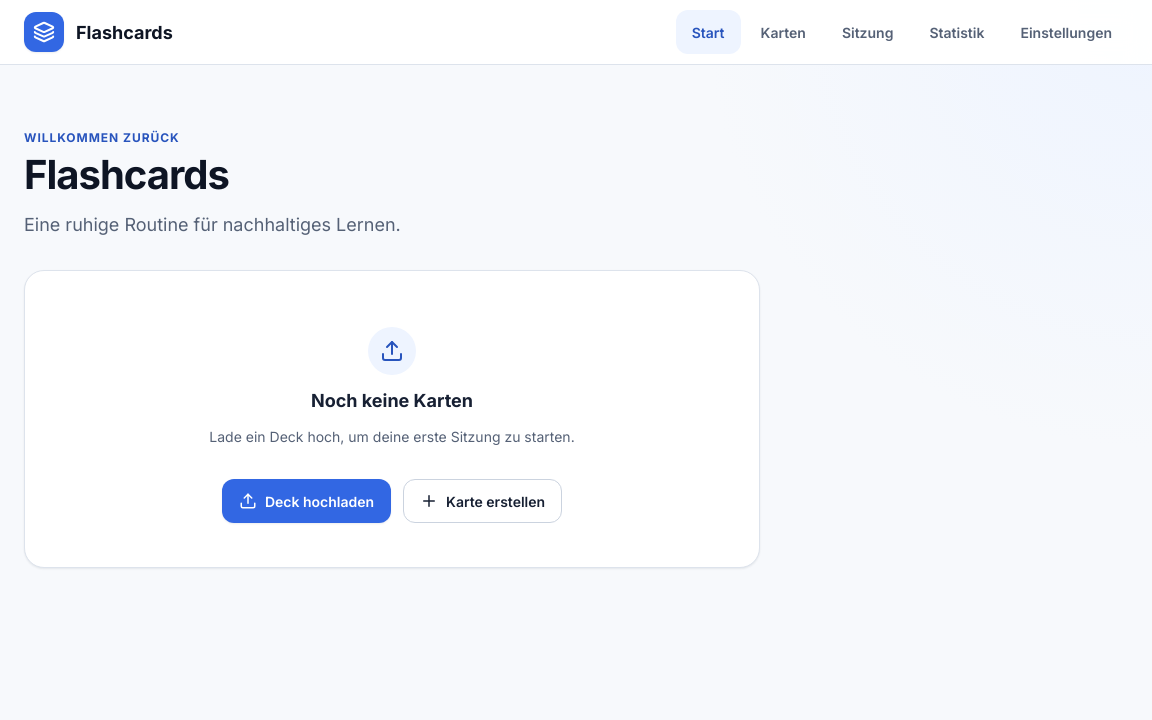
with browser language de-DE, the language is de until the Learner picks one
Step 1. Click the button "Einstellungen" → coordinates (1066, 32), box [1004,10,1128,54]
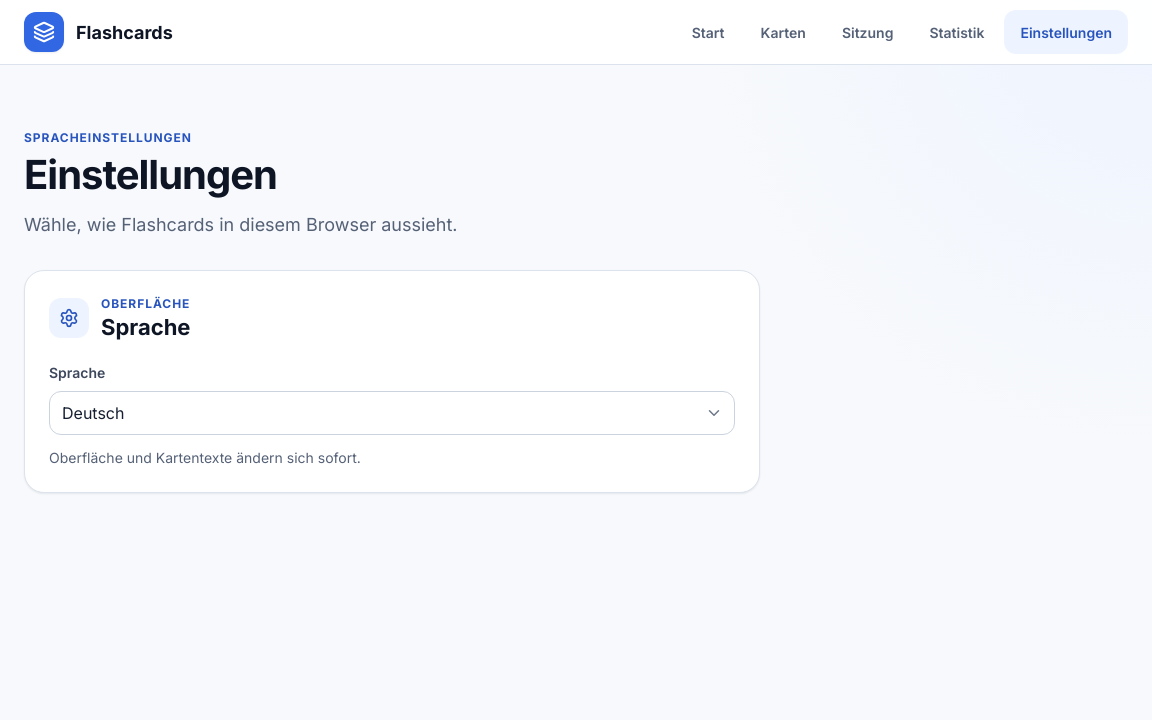
Result: the dropdown labelled "Sprache" shows "Deutsch" at [49,391,735,435]
